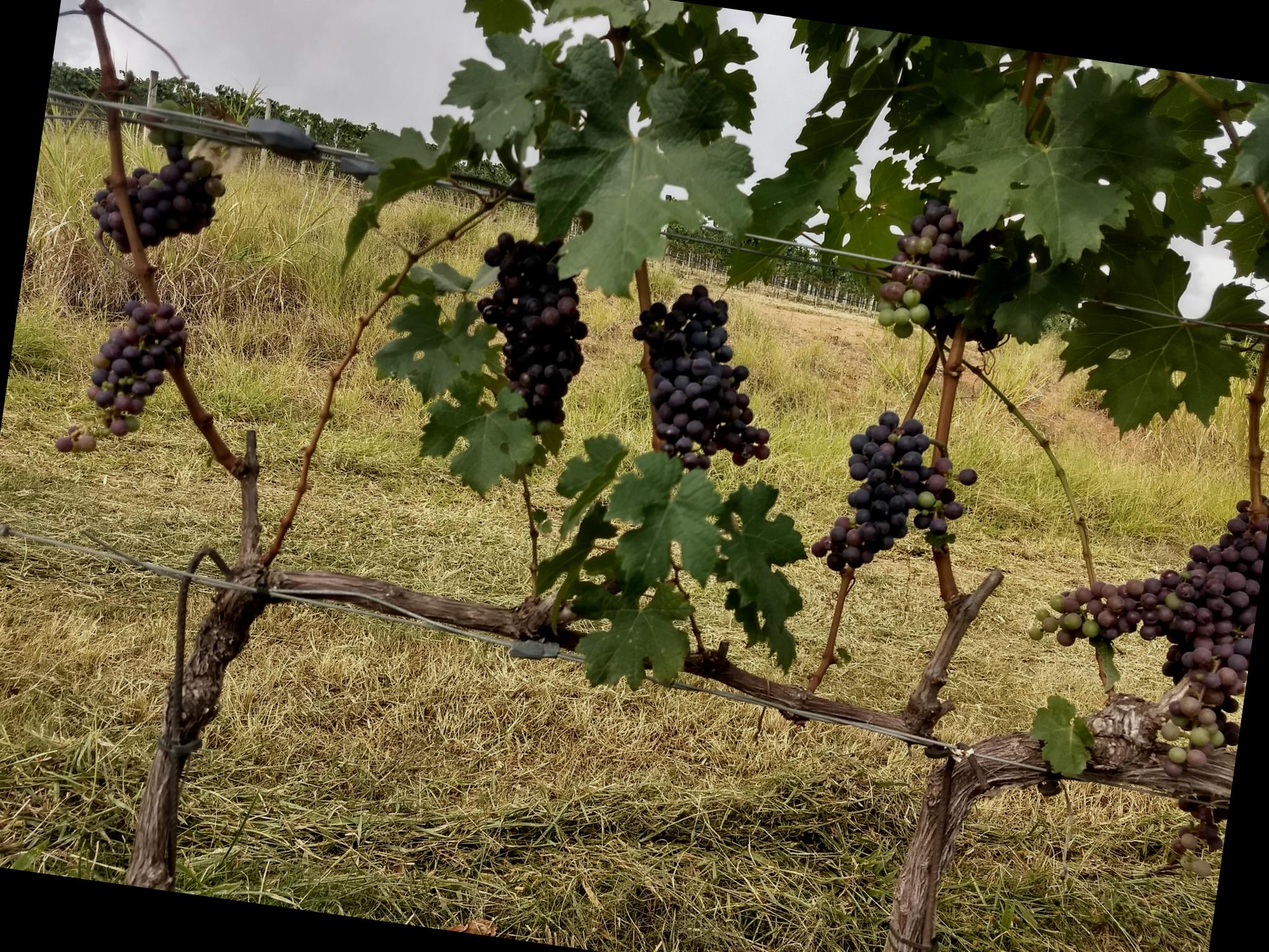Grape Ripe: (614, 273, 797, 479), (452, 223, 606, 436), (45, 277, 191, 468), (74, 137, 223, 256)
